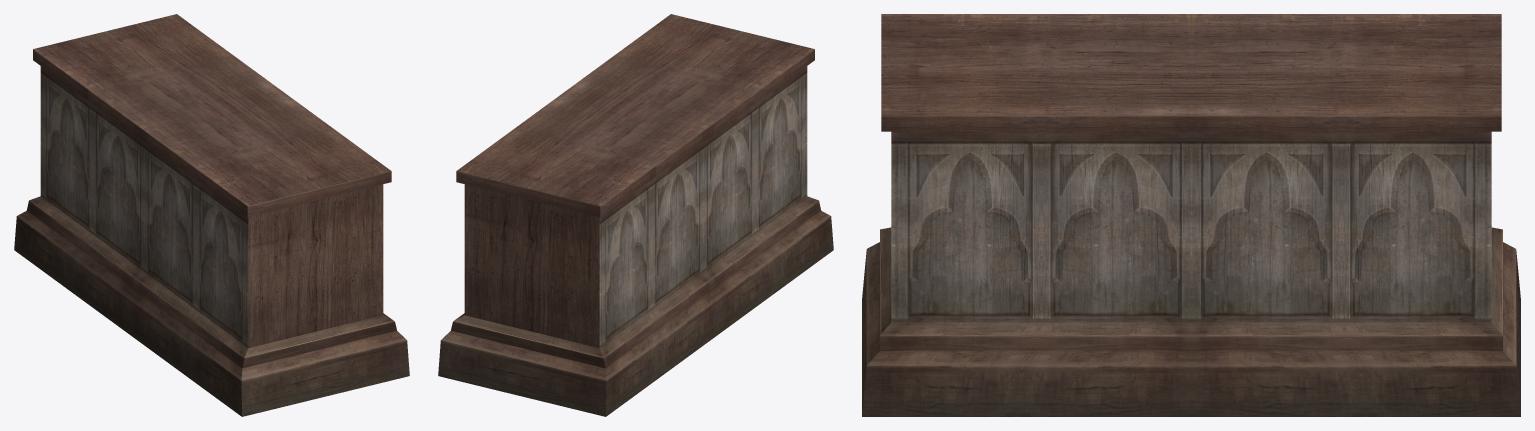
File: bg_lut_lucastle_churchinprop04_sm_ysi.FBX
The picture shows the model from 3 angles, left to right: view 1: azimuth 30°, elevation 25°; view 2: azimuth 150°, elevation 25°; view 3: azimuth 270°, elevation 25°; orthographic projection. The views are drawn at different scales.
Visible parts, largest first — view 1: bg_lut_lucastle_churchinprop04_sm_ysi; view 2: bg_lut_lucastle_churchinprop04_sm_ysi; view 3: bg_lut_lucastle_churchinprop04_sm_ysi.
Part boxes in pixels (x1,y1,x2,y2): bg_lut_lucastle_churchinprop04_sm_ysi: [14, 14, 409, 416]; bg_lut_lucastle_churchinprop04_sm_ysi: [438, 14, 833, 416]; bg_lut_lucastle_churchinprop04_sm_ysi: [862, 14, 1520, 416].
Size of the model in its own units: 90.66 by 105 by 213.
